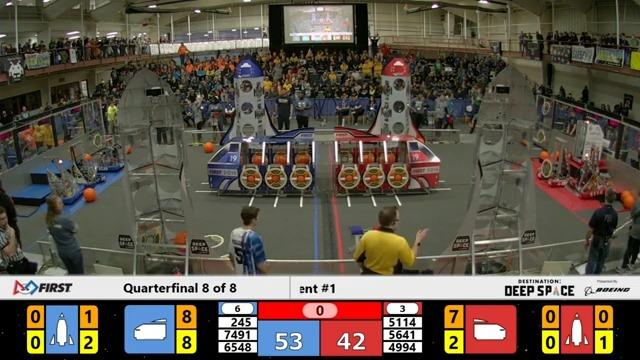robot: (567, 117, 614, 167), (533, 135, 576, 187), (66, 140, 109, 187), (572, 152, 612, 200), (46, 157, 86, 204), (92, 133, 128, 172)
